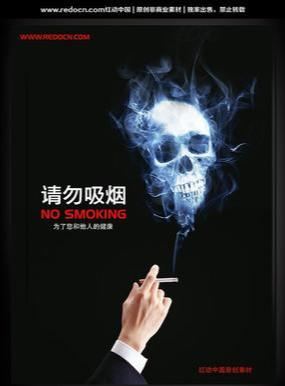Cigarette: (140, 278, 178, 284)
